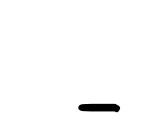minus: (77, 102, 119, 112)
